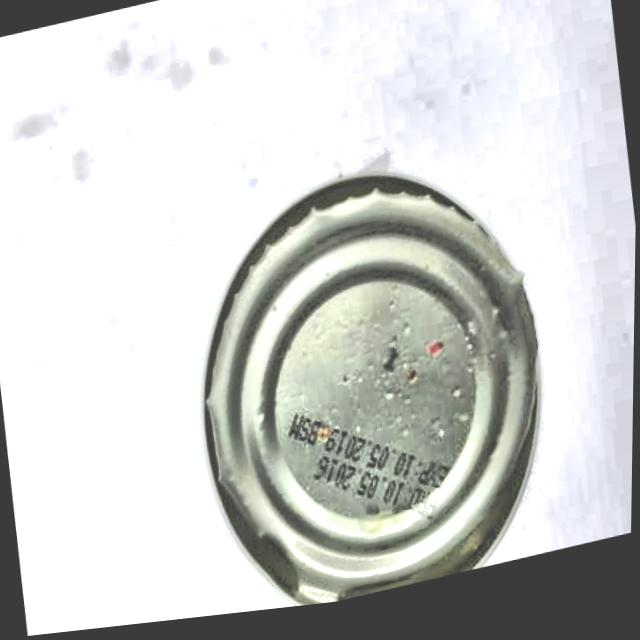Cans: (139, 117, 575, 627)
